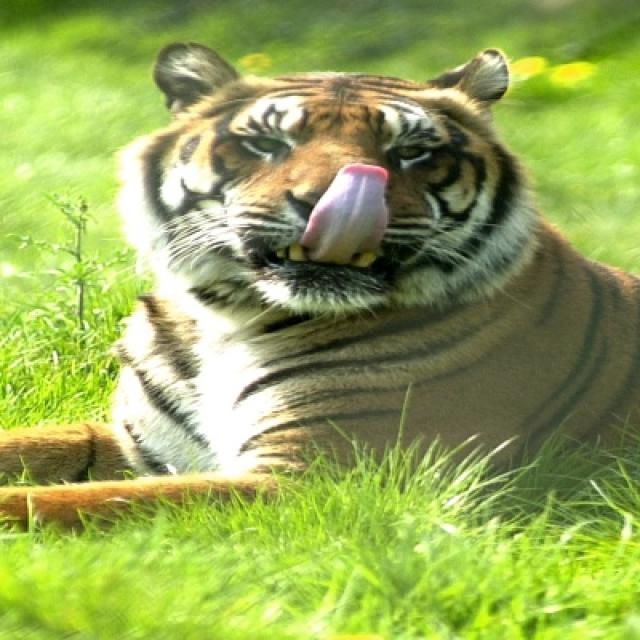Tiger: (2, 37, 638, 538)
